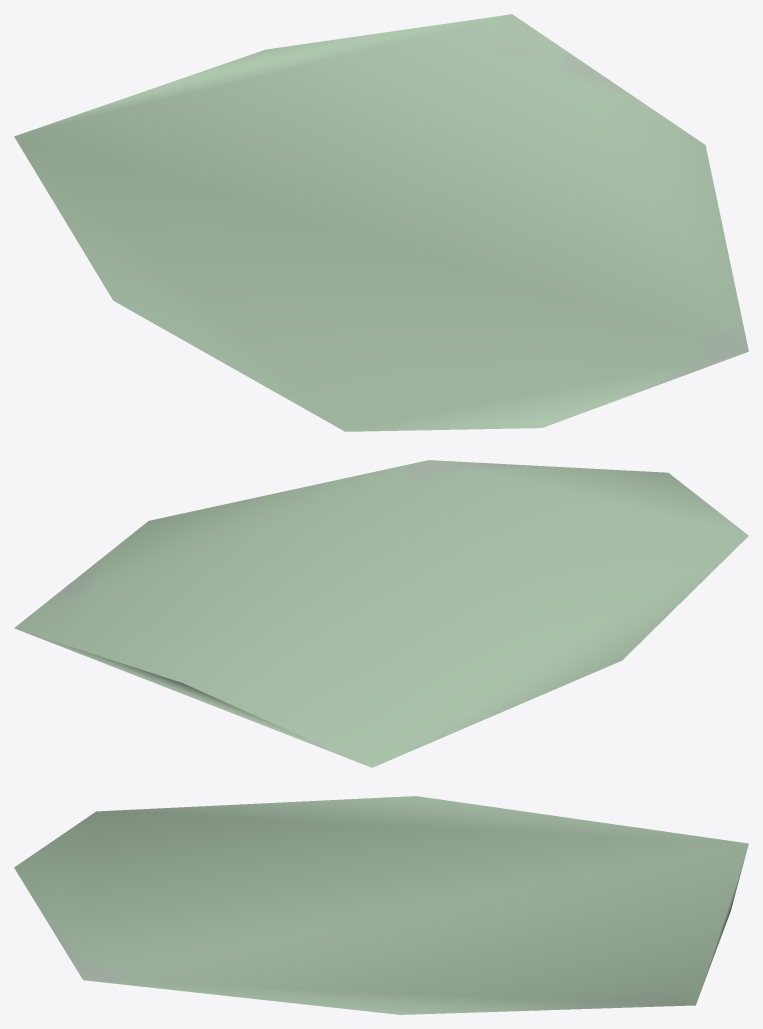
Rendered from TROLLHOLE02_HOLECAP209.fbx.
The picture shows the model from 3 angles, top to bottom: view 1: azimuth 30°, elevation 25°; view 2: azimuth 150°, elevation 25°; view 3: azimuth 270°, elevation 25°; orthographic projection. The views are drawn at different scales.
Visible parts, largest first — view 1: TROLLHOLE02_HOLECAP209; view 2: TROLLHOLE02_HOLECAP209; view 3: TROLLHOLE02_HOLECAP209.
Part boxes in pixels (x1=…): TROLLHOLE02_HOLECAP209: x1=14, y1=14, x2=748, y2=431; TROLLHOLE02_HOLECAP209: x1=14, y1=460, x2=748, y2=767; TROLLHOLE02_HOLECAP209: x1=14, y1=796, x2=748, y2=1014.
Size of the model in its own units: 10849 by 685 by 14297.
Materials: 1 (1 with a texture image).
